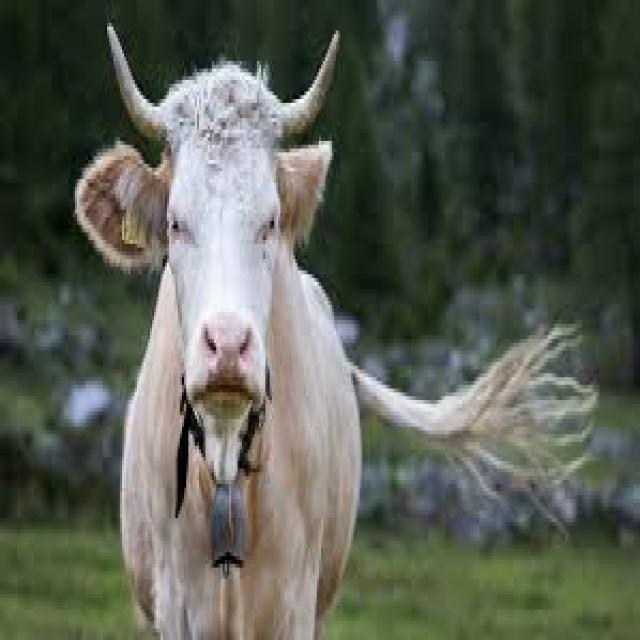cowFace: (58, 8, 368, 450)
